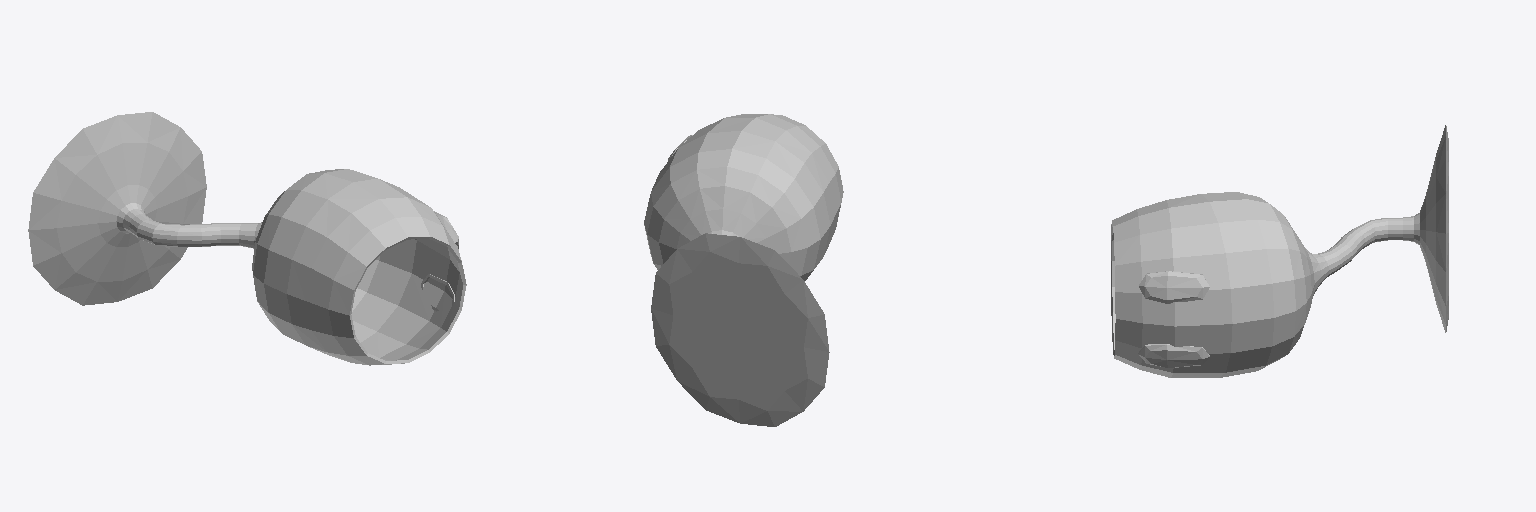
File: animation_000007.obj
3 renders of one model, left to right at view 1: azimuth 30°, elevation 25°; view 2: azimuth 150°, elevation 25°; view 3: azimuth 270°, elevation 25°, orthographic.
Bounding box in the file's own units: 3.34 × 2.06 × 3.39.